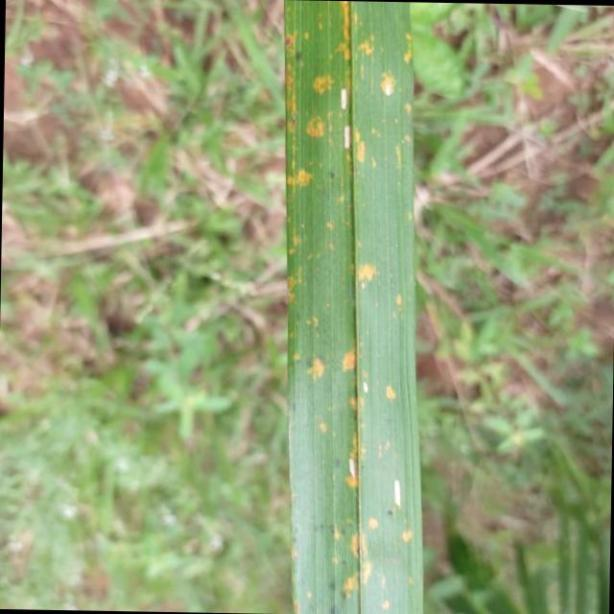Kalium: (280, 0, 424, 614)
